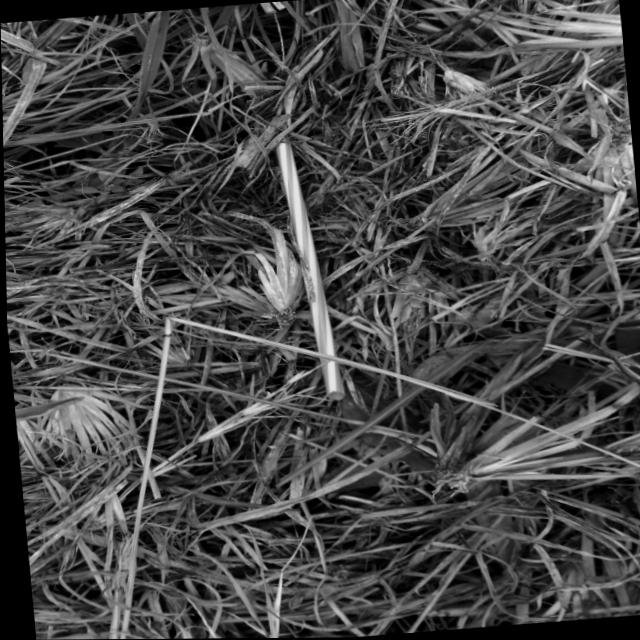Plastic: (255, 118, 378, 411)
